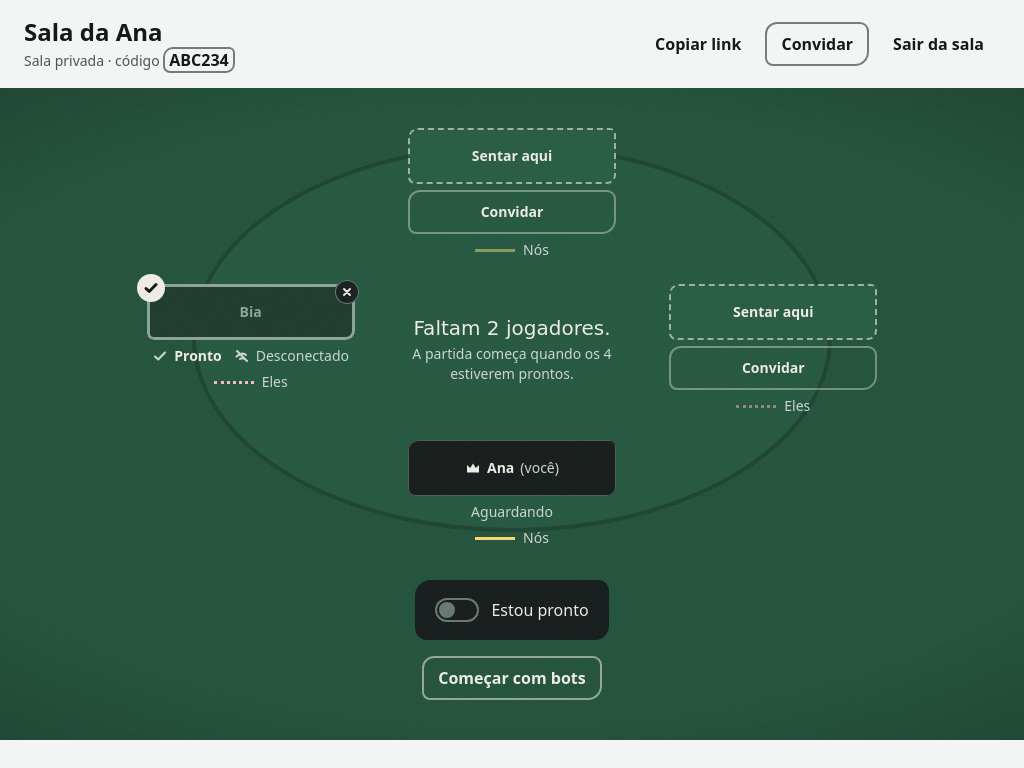
Test case: cancelar a remoção não envia nada
Click the button named "Remover Bia": (347, 292) [325,270,369,314]
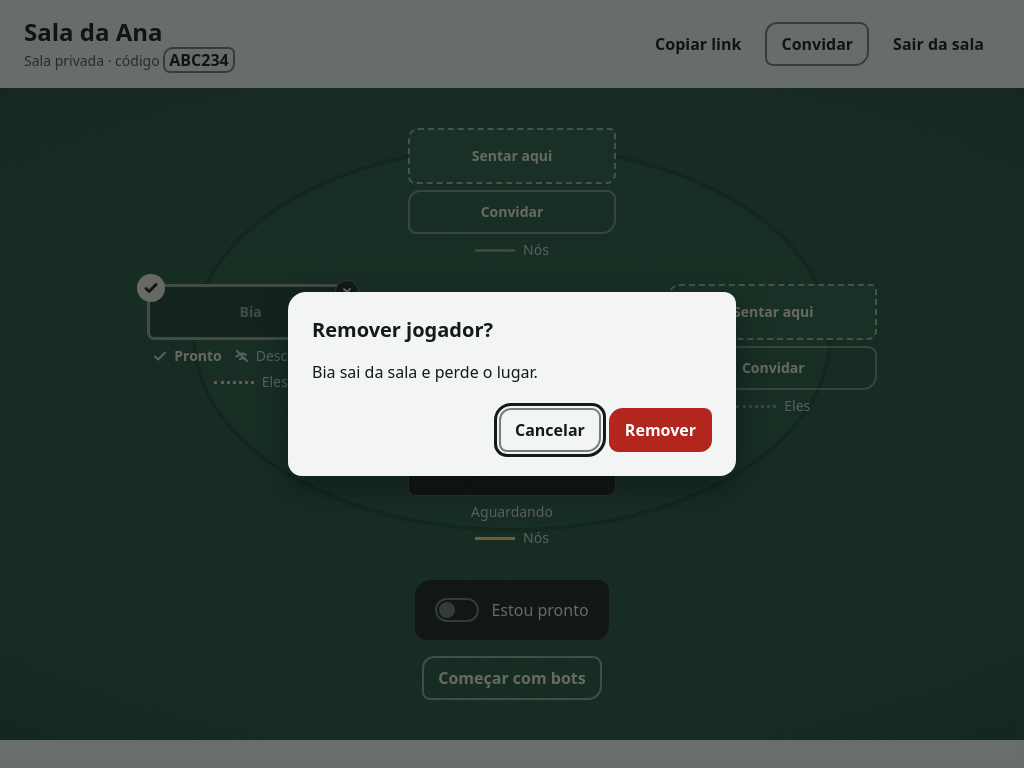
Click the button "Cancelar": (550, 430) [499,408,601,452]
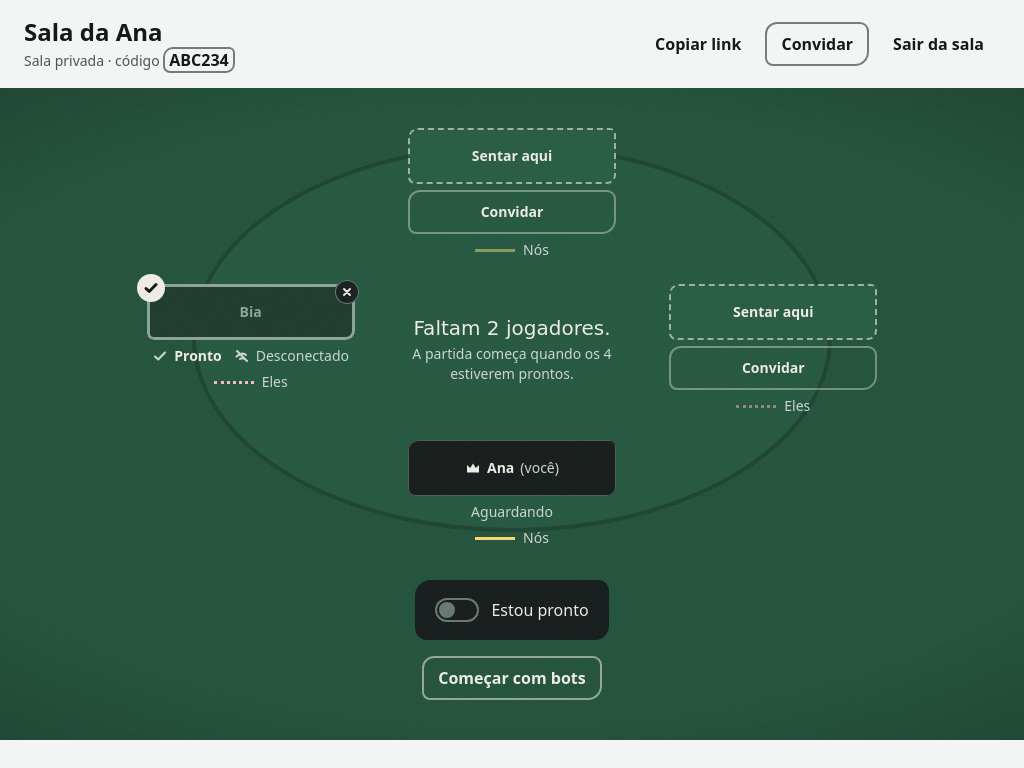
Result: the dialog is gone
